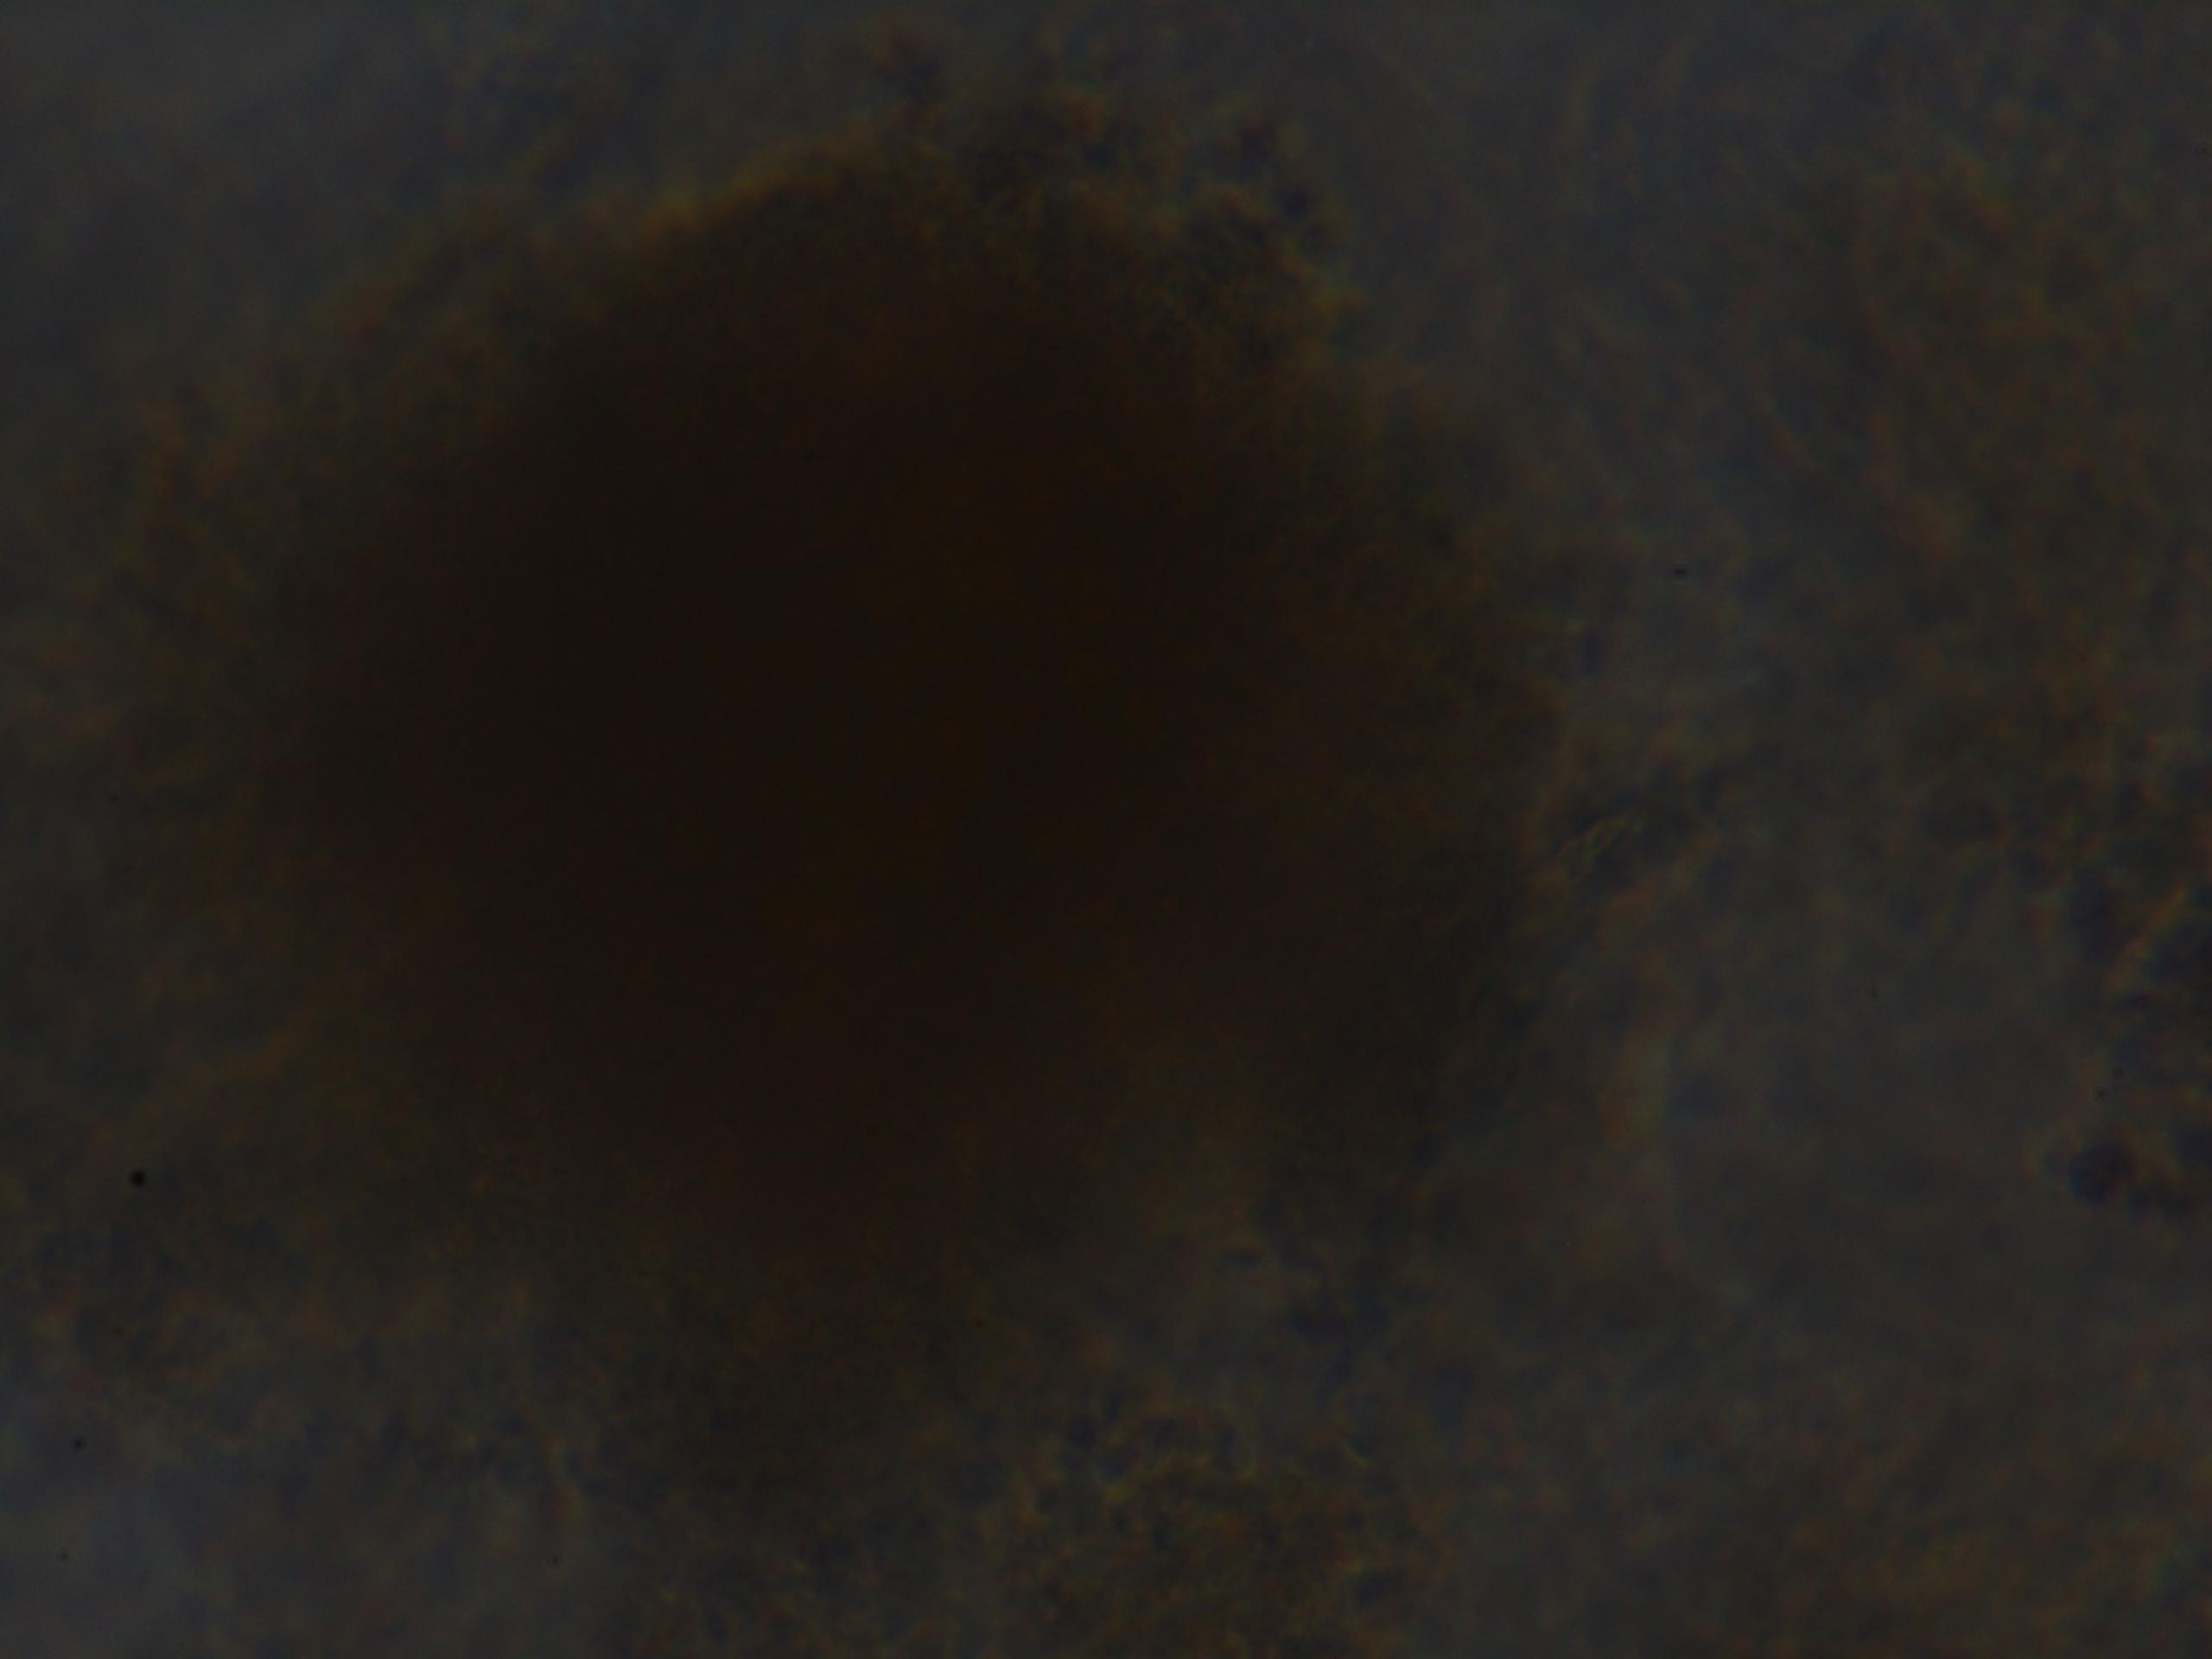spherical_floc: (0, 125, 1719, 1567)
